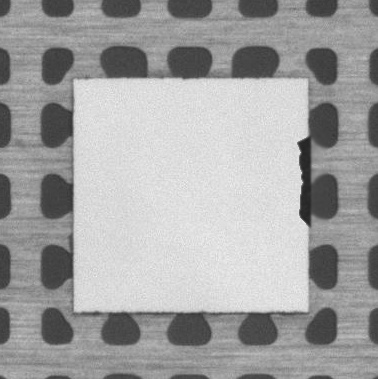DIE_BROKEN: (295, 132, 313, 230)
